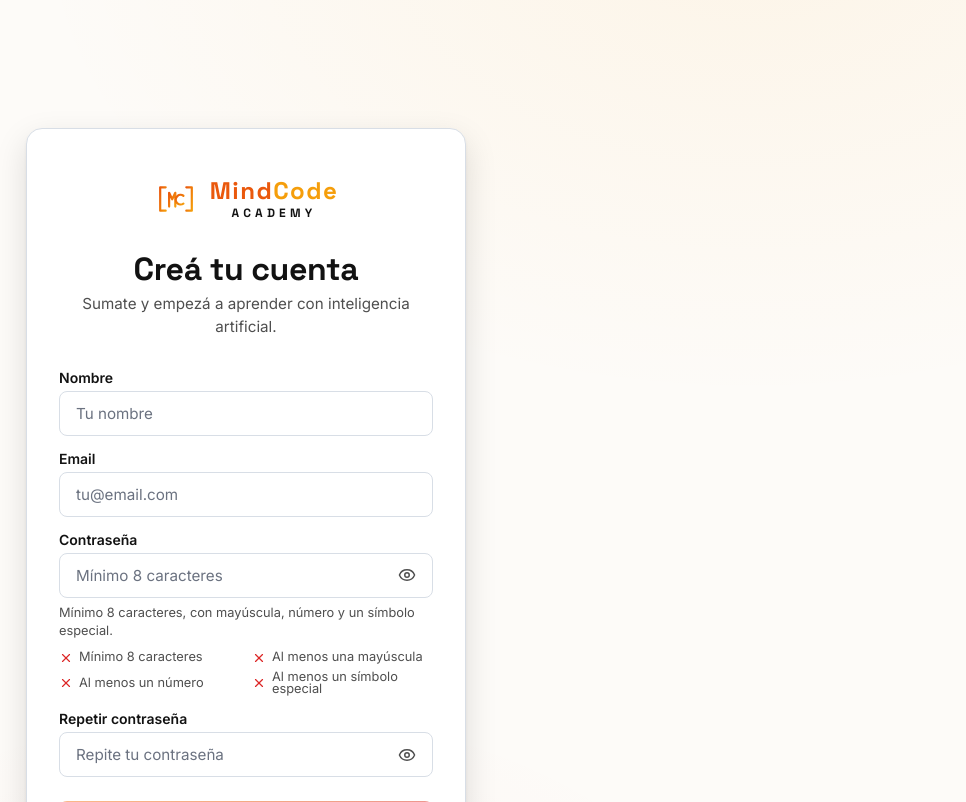
Test: RegisterPage › shows an inline error when the passwords do not match
In the password field labelled "Contraseña": (246, 575) [59, 553, 433, 598], type "Abcdefg1!"
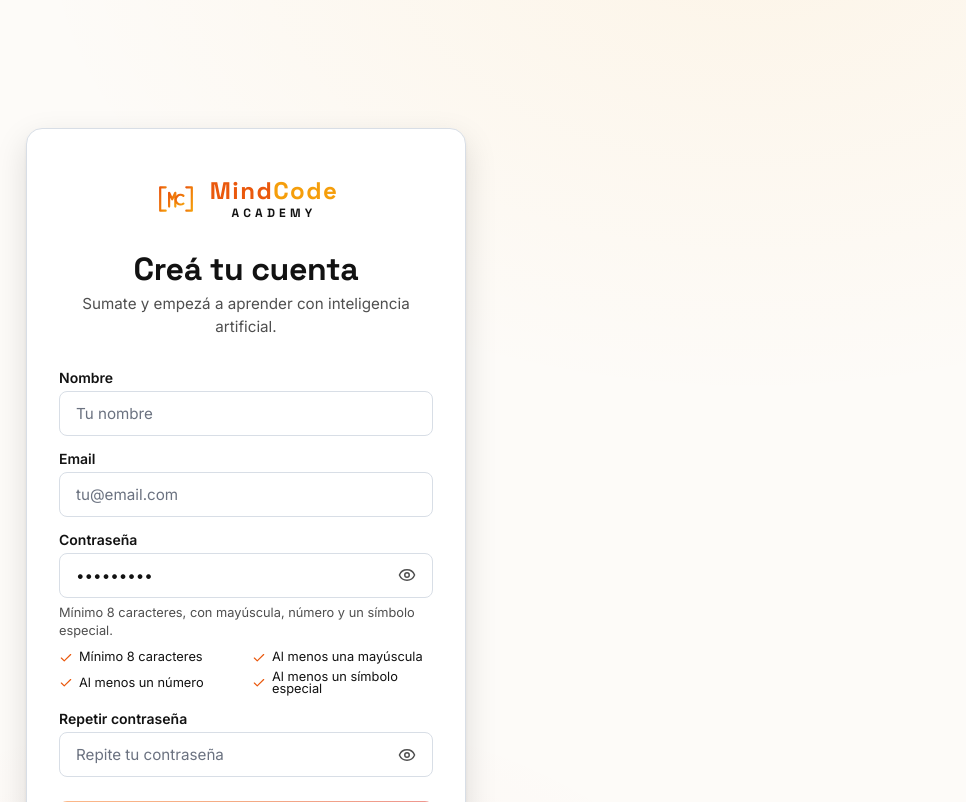
In the password field labelled "Repetir contraseña": (246, 755) [59, 732, 433, 777], type "Abcdefg1?"
(page scrolled)
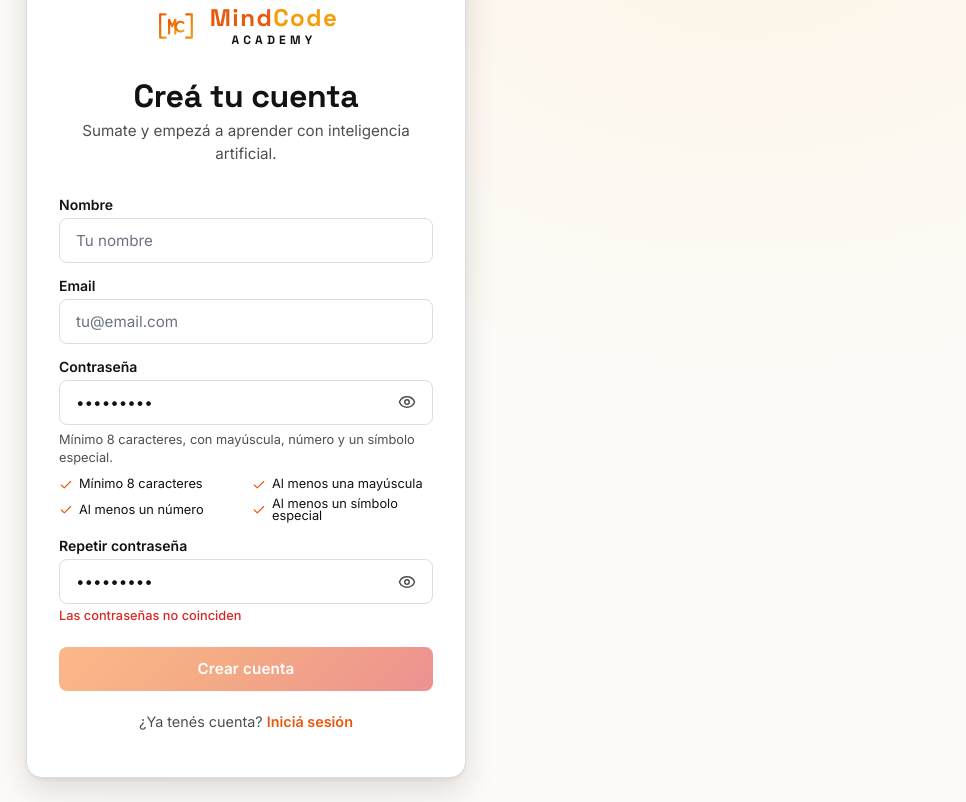
Expected: the button "Crear cuenta" is disabled, [59, 647, 433, 691]
Now the text "Las contraseñas no coinciden" is shown, box [59, 608, 241, 623]
